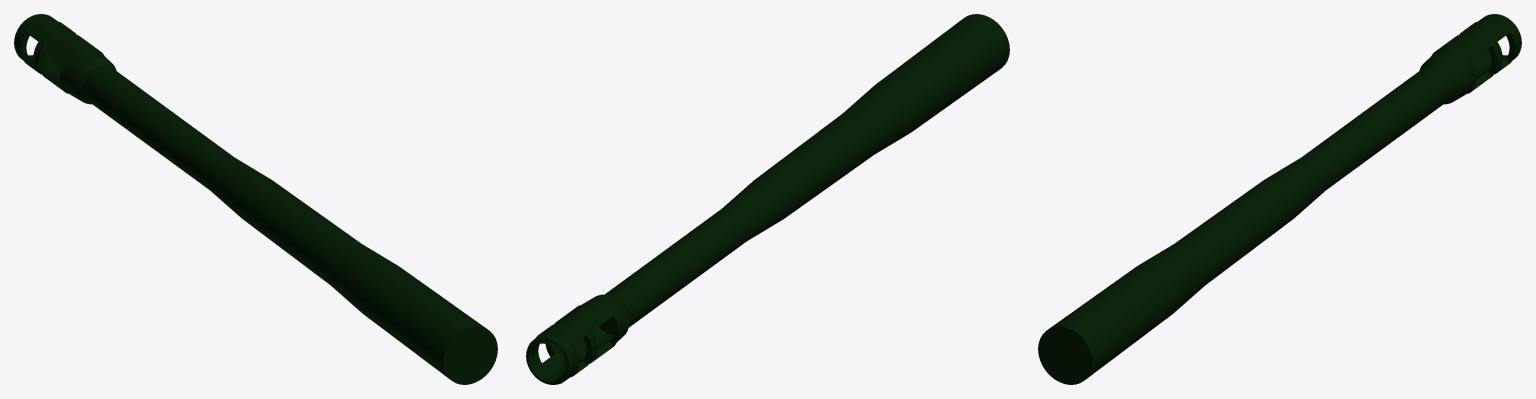
Rendered from cannon152mm.obj.
3 renders of one model, left to right at view 1: azimuth 30°, elevation 25°; view 2: azimuth 150°, elevation 25°; view 3: azimuth 330°, elevation 25°, orthographic.
Visible parts, largest first — view 1: Cannon152mm, CannonBreak152mm; view 2: Cannon152mm, CannonBreak152mm; view 3: Cannon152mm, CannonBreak152mm.
Boxes of the visible parts, left/top/right/bottom form: Cannon152mm: left=83, top=65, right=497, bottom=384; CannonBreak152mm: left=14, top=14, right=116, bottom=104; Cannon152mm: left=599, top=14, right=1009, bottom=334; CannonBreak152mm: left=526, top=294, right=630, bottom=384; Cannon152mm: left=1038, top=65, right=1452, bottom=384; CannonBreak152mm: left=1419, top=14, right=1521, bottom=104.
Bounding box in the file's own units: 0.232 × 0.232 × 3.22.
